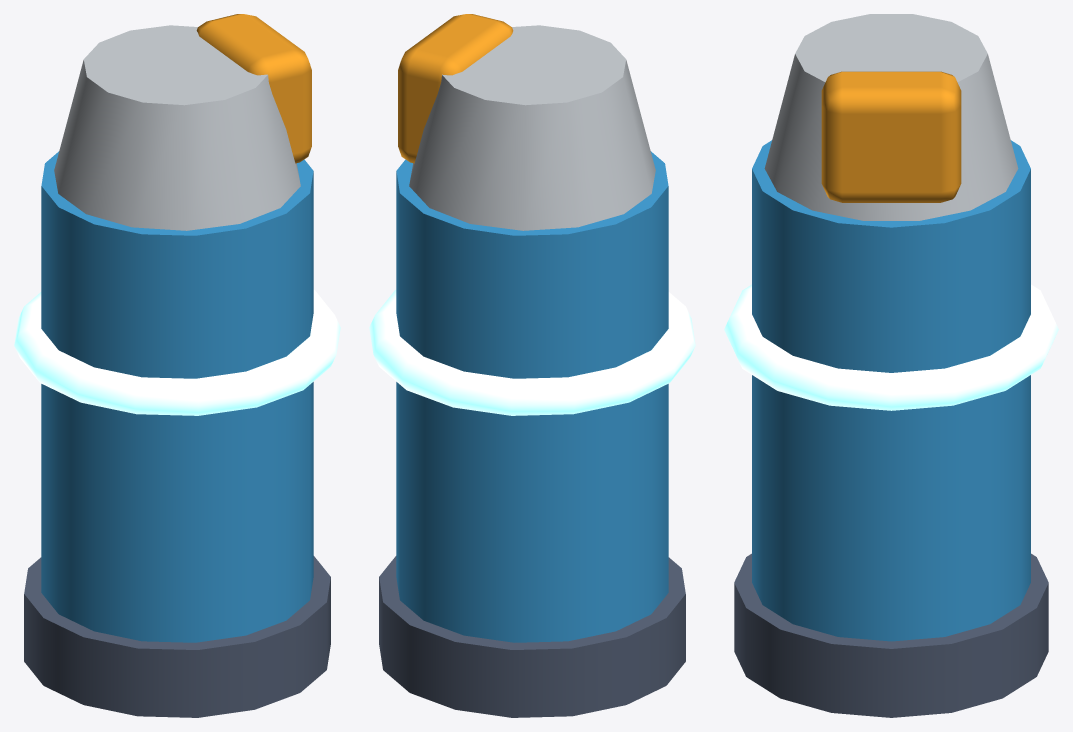
Rendered from hero-shooter-harbour-payload-item-smoke-canister-ae0ea8b5__27676.glb.
3 renders of one model, left to right at view 1: azimuth 30°, elevation 25°; view 2: azimuth 150°, elevation 25°; view 3: azimuth 270°, elevation 25°, orthographic.
Parts seen in each view (by area): view 1: item-smoke-canister; view 2: item-smoke-canister; view 3: item-smoke-canister.
Boxes of the visible parts, x1,y1,x2,y2 form: item-smoke-canister: (14,14,340,717); item-smoke-canister: (369,14,695,717); item-smoke-canister: (724,14,1058,717).
Bounding box in the file's own units: 0.132 × 0.265 × 0.132.
